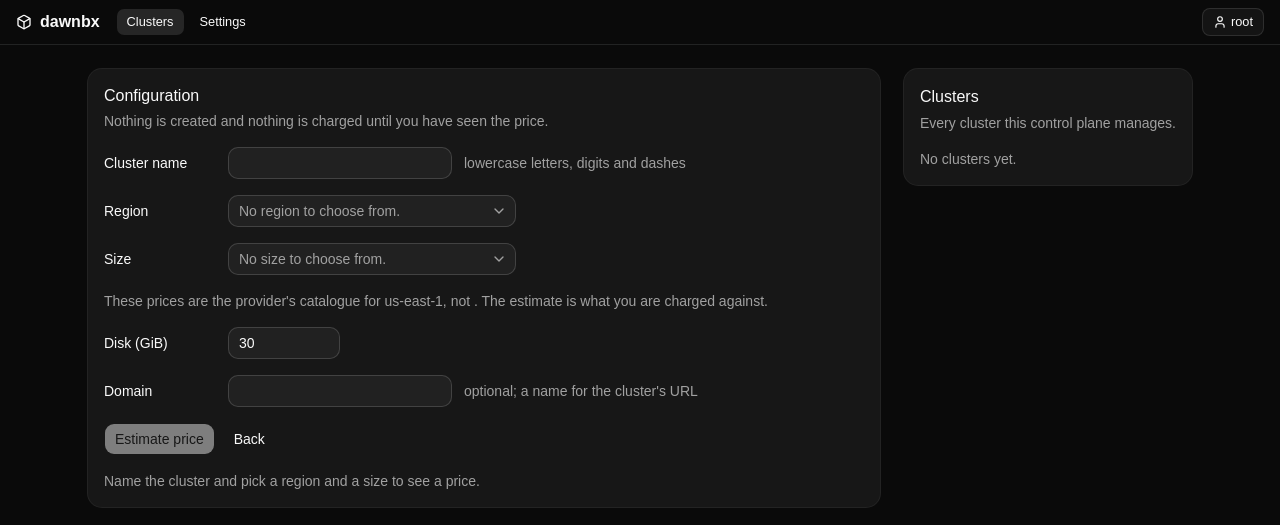
Configuration › prices the chosen sizes and says which region the catalogue is for
This screenshot has width=1280, height=525.
Click the dropdown labelled "size": click(372, 259) x1=228 y1=243 x2=516 y2=275
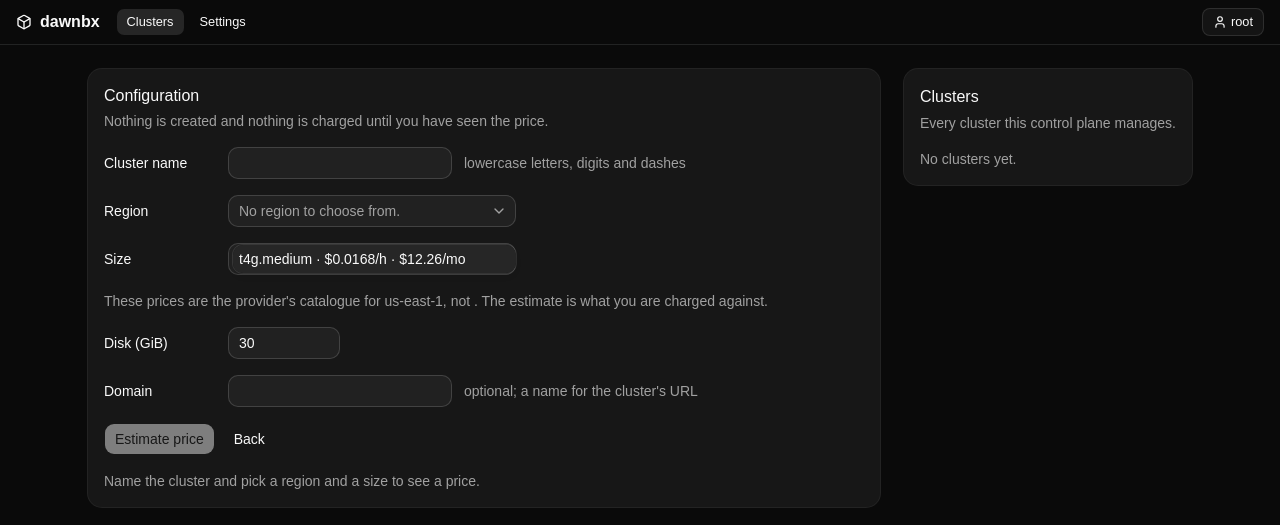
Expected: the text "These prices are the provider's catalogue for us-east-1, not " is shown, x1=104 y1=291 x2=864 y2=311
Now the option "t4g.medium · $0.0168/h · $12.26/mo" is shown, box x1=233 y1=245 x2=516 y2=273
